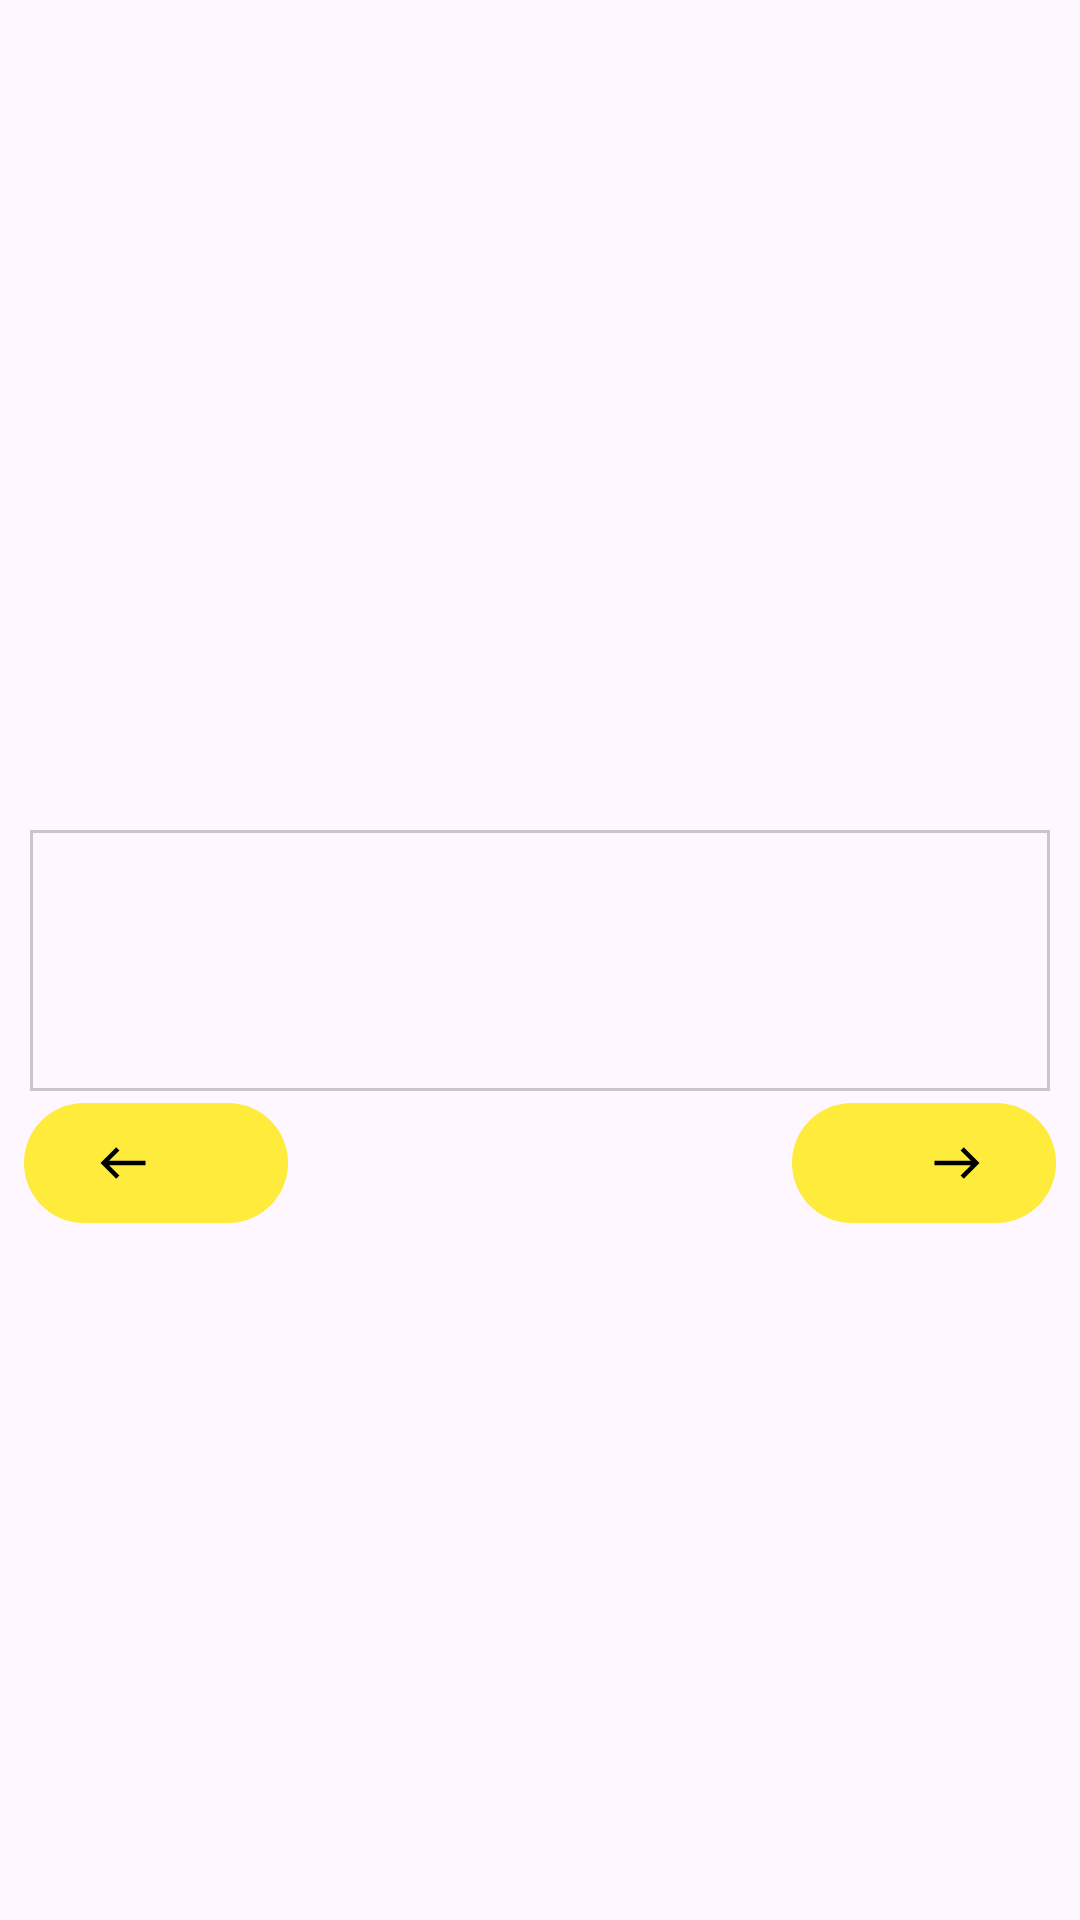

Locate icon controls on the screen. Image size 1080w x 1920h, boxes as (x1, y1, x2, y2).
Next: (792, 1103, 1056, 1223)
Previous: (24, 1103, 288, 1223)
